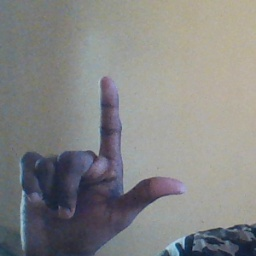L: (18, 76, 189, 255)
